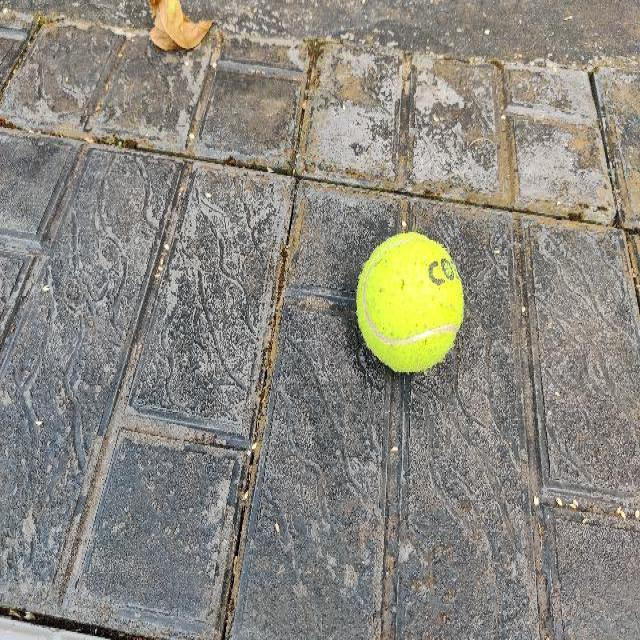tennis-ball: (355, 230, 463, 374)
